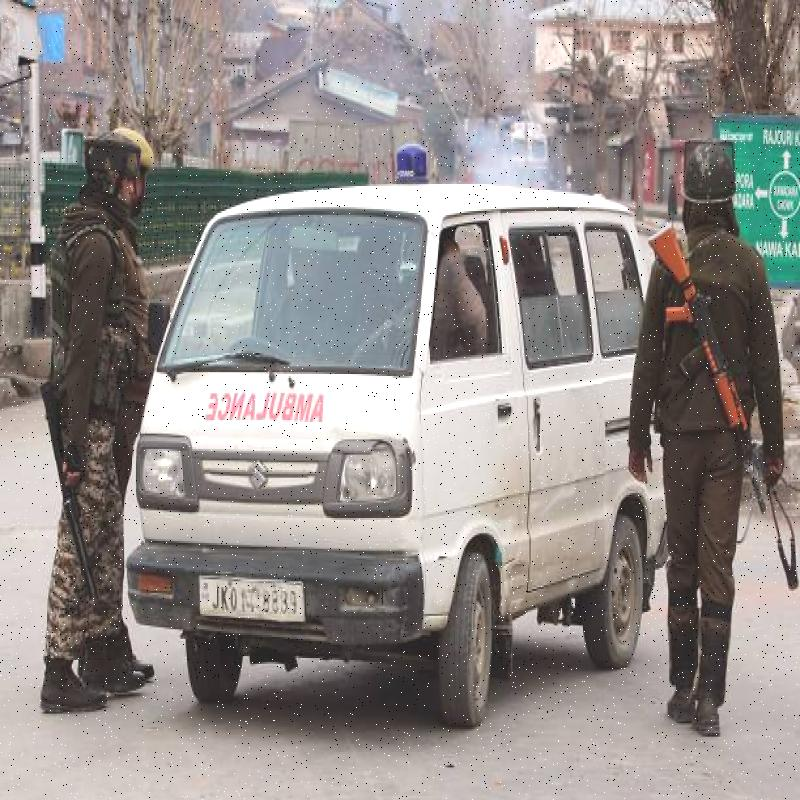AmbulanceSiren: (382, 127, 435, 193)
ambulance: (147, 169, 646, 649)
